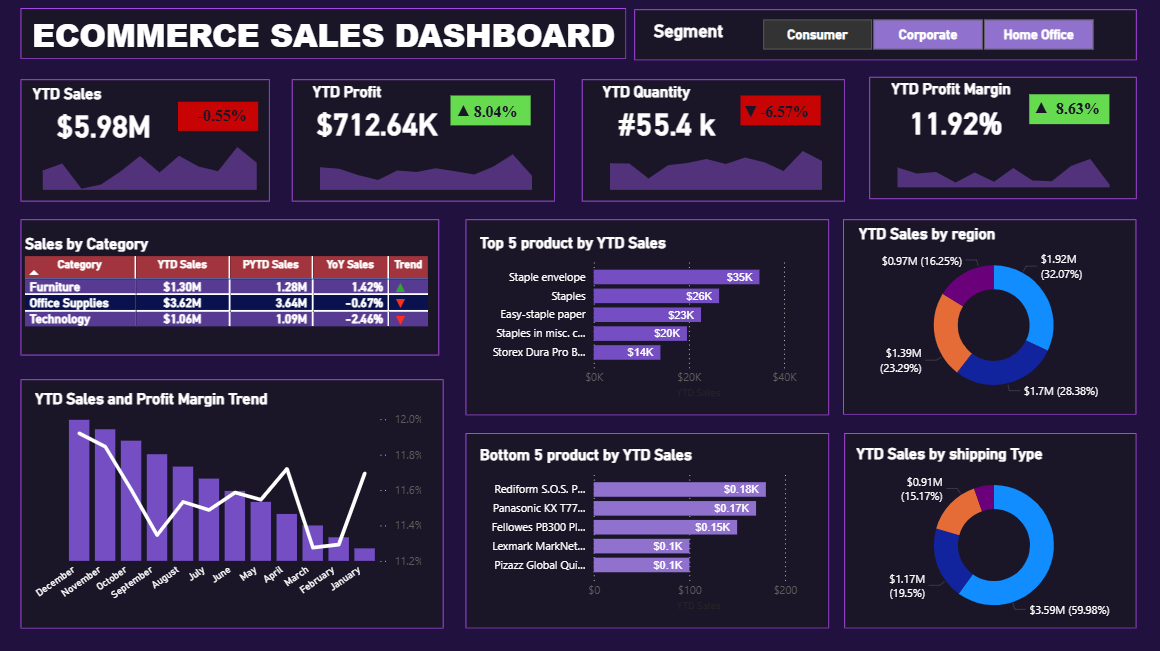

This screenshot's page, from the dashboard's own definition file:
{"tool":"powerbi","page":{"name":"Page 1","canvas":[1280,720],"ordinal":0},"visuals":[{"type":"shape","box":[24.3,11.5,665.1,56.3],"z":0},{"type":"shape","box":[24.3,89.5,273.7,134.3],"z":1000},{"type":"shape","box":[197,113.8,88.2,32],"z":2000},{"type":"card","fields":{"Values":["ecommerce_data.TTD Sales"]},"box":[35.8,106.2,161.2,65.2],"z":3000},{"type":"areaChart","fields":{"Category":["Calender.Month"],"Y":["Sum(ecommerce_data.sales_per_order)"]},"box":[35.8,148.4,262.2,67.8],"z":4000},{"type":"card","fields":{"Values":["ecommerce_data.YoY Sales"]},"box":[207.2,116.4,78,28.1],"z":5000},{"type":"textbox","box":[32.6,90.5,106.2,32.6],"z":7000},{"type":"shape","box":[322.5,88.9,289,134.3],"z":8000},{"type":"shape","box":[496.9,107.5,88.1,32.6],"z":9000},{"type":"card","fields":{"Values":["ecommerce_data.YTD Profit"]},"box":[336.6,104.2,159.9,65.2],"z":10000},{"type":"areaChart","fields":{"Category":["Calender.Month"],"Y":["Sum(ecommerce_data.profit_per_order)"]},"box":[340.4,147.7,259.6,67.8],"z":11000},{"type":"card","fields":{"Values":["ecommerce_data.YoY profit"]},"box":[507.7,111.2,77.2,29],"z":12000},{"type":"card","fields":{"Values":["ecommerce_data.profit Icon"]},"box":[472.4,111.4,78,28.1],"z":13000},{"type":"textbox","box":[340.4,87.6,116.4,33.3],"z":14000},{"type":"shape","box":[640.2,88.8,289,134.3],"z":15000},{"type":"shape","box":[814.5,107.5,88.1,32.6],"z":16000},{"type":"card","fields":{"Values":["ecommerce_data.ytd concatinated qty"]},"box":[654.2,104.2,159.9,65.2],"z":17000},{"type":"areaChart","fields":{"Category":["Calender.Month"],"Y":["Sum(ecommerce_data.order_quantity)"]},"box":[658.1,147.7,259.6,67.8],"z":18000},{"type":"card","fields":{"Values":["ecommerce_data.YoY Qty"]},"box":[825.4,111.1,77.2,29],"z":19000},{"type":"card","fields":{"Values":["ecommerce_data.Qty Icon"]},"box":[788,112.2,77.2,27.7],"z":20000},{"type":"textbox","box":[658.1,87.5,116.4,33.3],"z":21000},{"type":"shape","box":[956.4,86.4,293.7,134.5],"z":22000},{"type":"shape","box":[1131.4,105.8,88.1,32.6],"z":23000},{"type":"card","fields":{"Values":["ecommerce_data.YTD profit margin"]},"box":[971.1,102.5,159.9,65.2],"z":24000},{"type":"areaChart","fields":{"Category":["Calender.Month"],"Y":["ecommerce_data.Profit margin"]},"box":[975,146,259.6,67.8],"z":25000},{"type":"card","fields":{"Values":["ecommerce_data.YoY profit margin"]},"box":[1146.6,108.3,76.7,28.1],"z":26000},{"type":"card","fields":{"Values":["ecommerce_data.Profit margin Icon"]},"box":[1106.5,108.8,78.4,27.7],"z":27000},{"type":"textbox","box":[975.2,85.3,156,33.3],"z":28000},{"type":"shape","box":[24.7,242.9,459.7,149.6],"z":29000},{"type":"pivotTable","title":"Sales by Category","fields":{"Rows":["ecommerce_data.category_name"],"Values":["ecommerce_data.YTD Sales","ecommerce_data.PYTD Sales","ecommerce_data.YoY Sales","ecommerce_data.Sale Icon"]},"box":[24.7,259.3,459.7,116.6],"z":30000},{"type":"shape","box":[24.1,418.6,464.5,273.9],"z":31000},{"type":"shape","box":[513.2,242.9,399.3,215.4],"z":32000},{"type":"shape","box":[512.7,477.8,399.3,214.7],"z":33000},{"type":"barChart","title":"Top 5 product by YTD Sales ","fields":{"Category":["ecommerce_data.product_name"],"Y":["ecommerce_data.YTD Sales"]},"box":[523.6,258.2,378.8,187],"z":34000},{"type":"barChart","title":"Bottom 5 product by YTD Sales ","fields":{"Category":["ecommerce_data.product_name"],"Y":["ecommerce_data.YTD Sales"]},"box":[523.6,491,378.8,187],"z":35000},{"type":"shape","box":[927.8,242.5,322.1,214.7],"z":36000},{"type":"shape","box":[929,477.8,320.9,214.7],"z":37000},{"type":"donutChart","title":"YTD Sales by region","fields":{"Category":["ecommerce_data.customer_region"],"Y":["ecommerce_data.YTD Sales"]},"box":[939.8,248.5,306.4,202.7],"z":38000},{"type":"donutChart","title":"YTD Sales by shipping Type","fields":{"Y":["ecommerce_data.YTD Sales"],"Category":["ecommerce_data.shipping_type"]},"box":[937.4,489.8,312.5,202.7],"z":39000},{"type":"shape","box":[698.5,12.3,551.6,56.3],"z":40000},{"type":"slicer","fields":{"Values":["ecommerce_data.customer_segment"]},"box":[813.1,16.9,412.6,47.1],"z":41000},{"type":"textbox","box":[715.4,20.5,109.8,38.6],"z":42000},{"type":"lineStackedColumnComboChart","title":"YTD Sales and Profit Margin Trend","fields":{"Category":["Calender.Month"],"Y":["ecommerce_data.YTD Sales"],"Y2":["ecommerce_data.YTD profit margin"]},"box":[35.9,429.6,433.9,248.6],"z":43000}]}

Visuals, with their boxes in screenshot pixels (x1, y1, x2, y2), scaled from the page's 1280x720 canvas onto the 1160x651 screenshot:
shape: region(22, 10, 625, 61)
shape: region(22, 81, 270, 202)
shape: region(179, 103, 258, 132)
card - ecommerce_data.TTD Sales: region(32, 96, 179, 155)
areaChart - Calender.Month x Sum(ecommerce_data.sales_per_order): region(32, 134, 270, 195)
card - ecommerce_data.YoY Sales: region(188, 105, 258, 131)
textbox: region(30, 82, 126, 111)
shape: region(292, 80, 554, 202)
shape: region(450, 97, 530, 127)
card - ecommerce_data.YTD Profit: region(305, 94, 450, 153)
areaChart - Calender.Month x Sum(ecommerce_data.profit_per_order): region(308, 134, 544, 195)
card - ecommerce_data.YoY profit: region(460, 101, 530, 127)
card - ecommerce_data.profit Icon: region(428, 101, 499, 126)
textbox: region(308, 79, 414, 109)
shape: region(580, 80, 842, 202)
shape: region(738, 97, 818, 127)
card - ecommerce_data.ytd concatinated qty: region(593, 94, 738, 153)
areaChart - Calender.Month x Sum(ecommerce_data.order_quantity): region(596, 134, 832, 195)
card - ecommerce_data.YoY Qty: region(748, 100, 818, 127)
card - ecommerce_data.Qty Icon: region(714, 101, 784, 126)
textbox: region(596, 79, 702, 109)
shape: region(867, 78, 1133, 200)
shape: region(1025, 96, 1105, 125)
card - ecommerce_data.YTD profit margin: region(880, 93, 1025, 152)
areaChart - Calender.Month x ecommerce_data.Profit margin: region(884, 132, 1119, 193)
card - ecommerce_data.YoY profit margin: region(1039, 98, 1109, 123)
card - ecommerce_data.Profit margin Icon: region(1003, 98, 1074, 123)
textbox: region(884, 77, 1025, 107)
shape: region(22, 220, 439, 355)
"Sales by Category" pivotTable: region(22, 234, 439, 340)
shape: region(22, 378, 443, 626)
shape: region(465, 220, 827, 414)
shape: region(465, 432, 826, 626)
"Top 5 product by YTD Sales " barChart: region(475, 233, 818, 403)
"Bottom 5 product by YTD Sales " barChart: region(475, 444, 818, 613)
shape: region(841, 219, 1133, 413)
shape: region(842, 432, 1133, 626)
"YTD Sales by region" donutChart: region(852, 225, 1129, 408)
"YTD Sales by shipping Type" donutChart: region(850, 443, 1133, 626)
shape: region(633, 11, 1133, 62)
slicer - ecommerce_data.customer_segment: region(737, 15, 1111, 58)
textbox: region(648, 19, 748, 53)
"YTD Sales and Profit Margin Trend" lineStackedColumnComboChart: region(33, 388, 426, 613)
